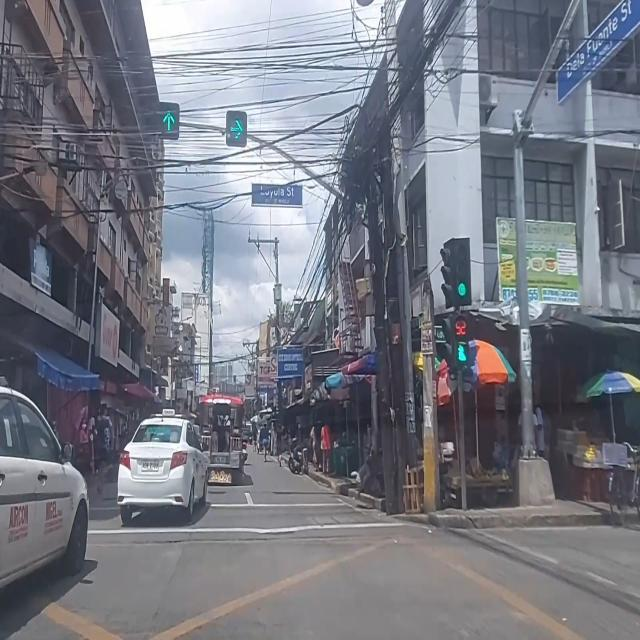car: (0, 385, 88, 587), (117, 414, 209, 524)
jeepney: (200, 394, 247, 484)
motorcycle: (288, 438, 302, 473)
